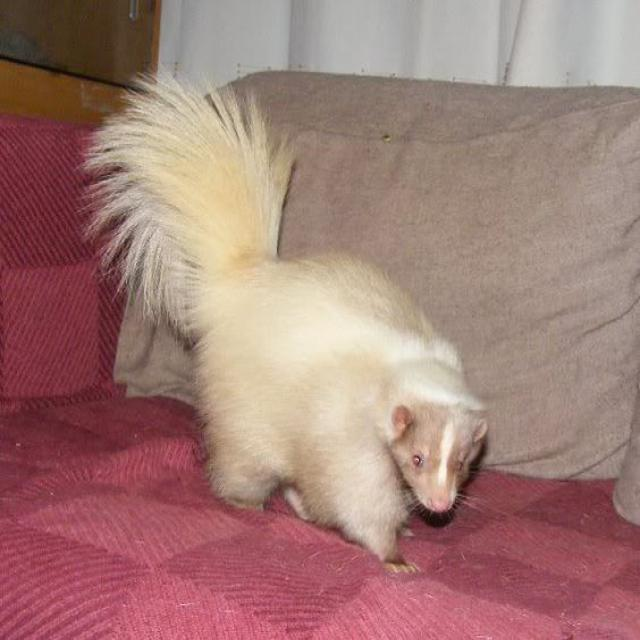Skunk: (81, 54, 502, 574)
